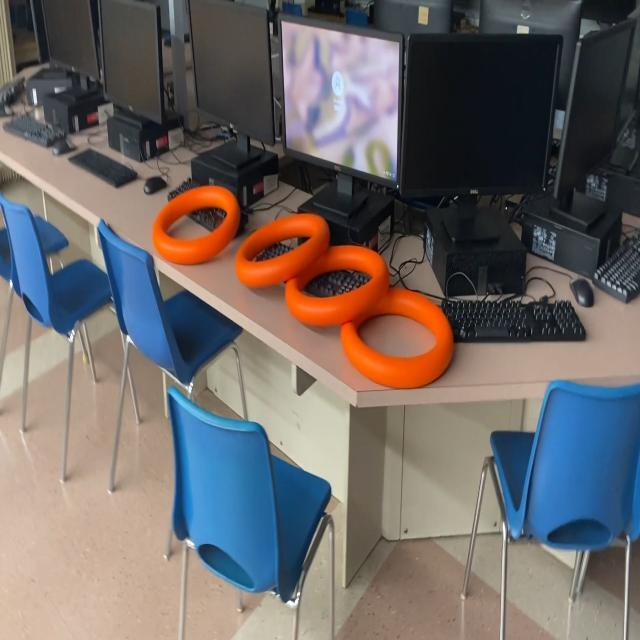note: (340, 286, 456, 392), (282, 244, 388, 326), (151, 184, 238, 266), (236, 214, 330, 288)
